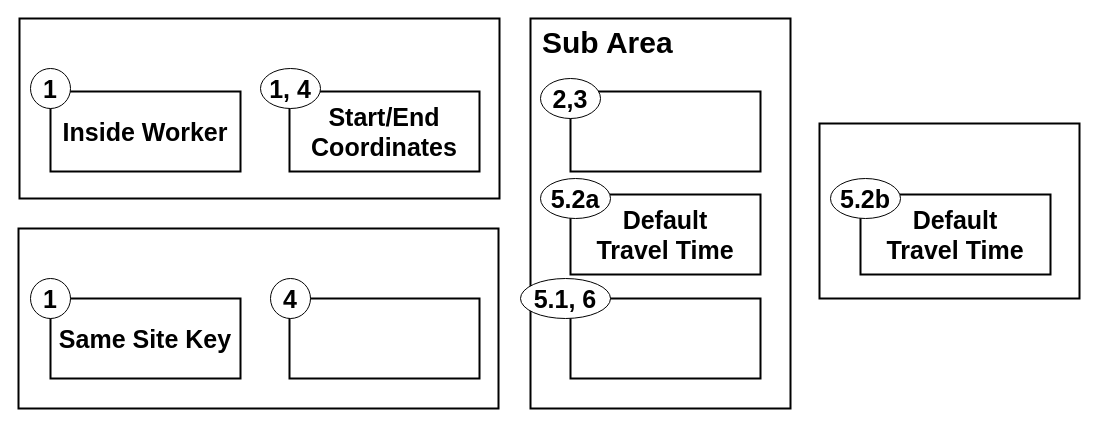
Some shapes in this 1097 by 426 pixel diagram are drawn without their labels. The box of each missing label's shape, as (x1, y1, x2, y2) in pixels:
Global Settings: (818, 122, 1080, 299)
Override Travel Times: (569, 90, 761, 172)
Sub Area Coordinates: (569, 297, 761, 379)
Task: (17, 227, 499, 409)
Technician: (18, 17, 500, 199)
Worksite Coordinates: (288, 297, 480, 379)
